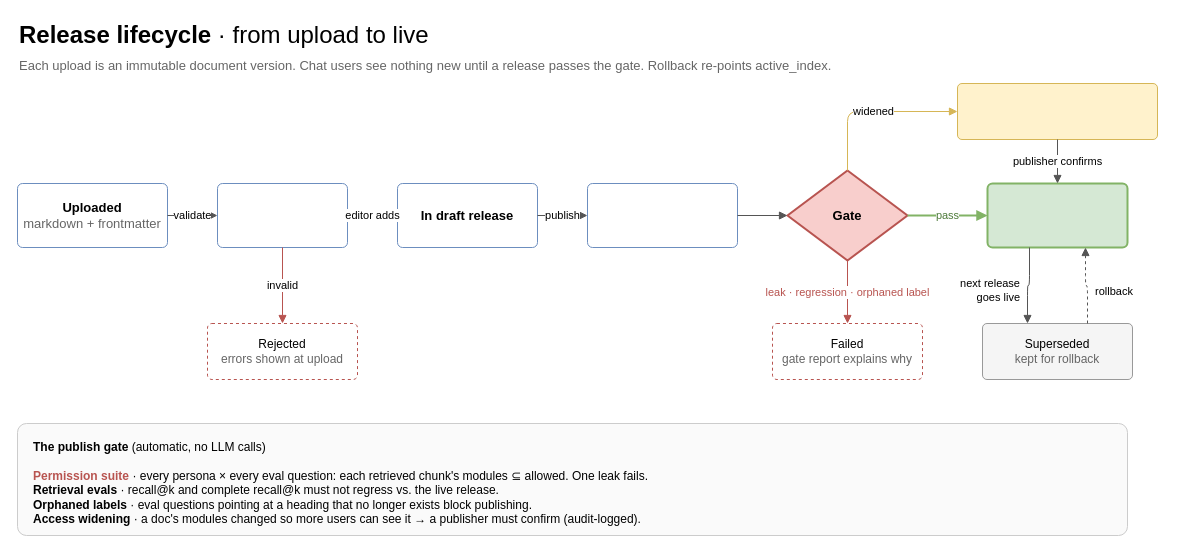
Some shapes in this 1181 by 553 pixel diagram are drawn without their labels. Each missing label, with the centre of its shape:
"Awaiting confirmation access was widened" goes at (1057,111).
"Building chunk · embed · index" goes at (662,215).
"Live active_index" goes at (1057,215).
"Validated" goes at (282,215).
